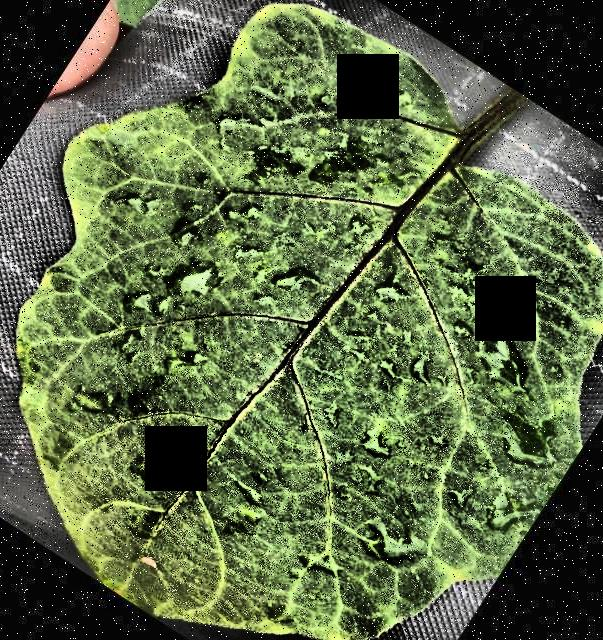Non-critical Stress: (0, 0, 603, 640)
